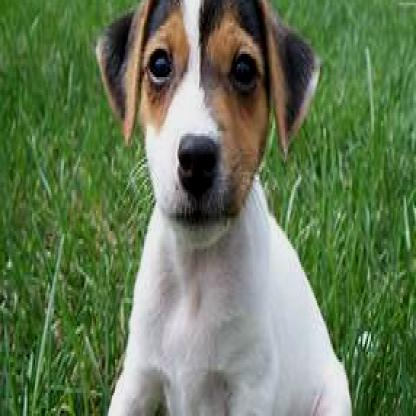dog: (93, 0, 356, 414)
